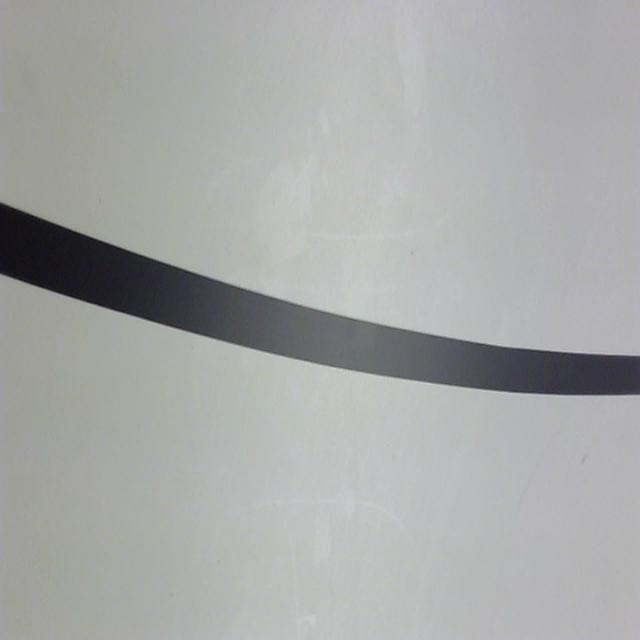tape: (0, 160, 640, 417)
